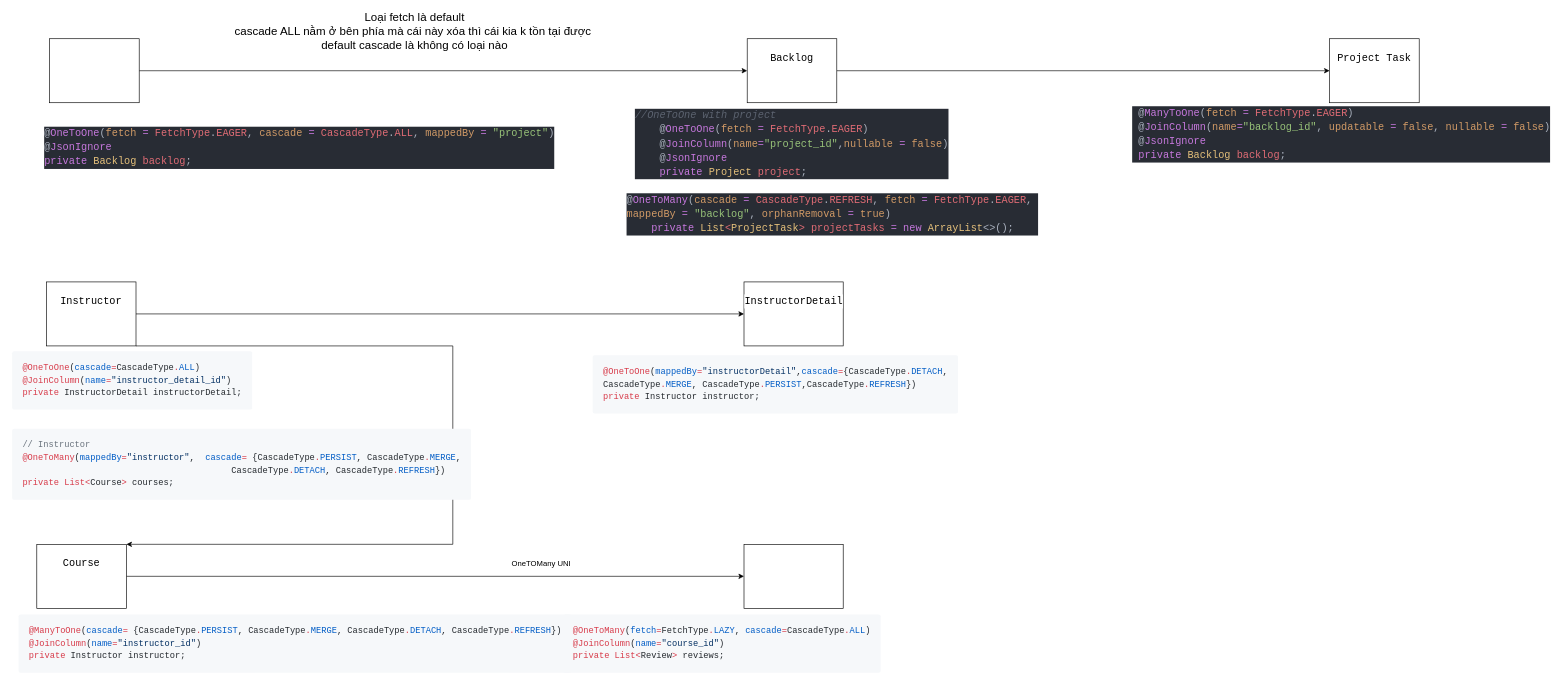
This 1561x684 diagram has some shape labels left out. Each missing label, with the centre of its shape:
Project: (x=94, y=70)
Reviews: (x=793, y=576)
